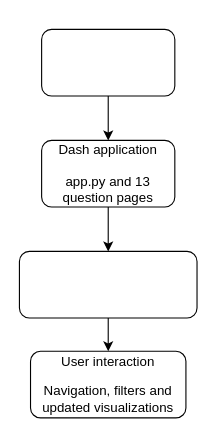
The diagram is 216 pixels wide and 447 high, and some of its shapes have lost their labels. Each missing label, with the box of its shape:
Plotly Express charts Bar charts, line charts, heatmaps and scatter plots: (18, 250, 197, 318)
Prepared datasets Pickle files in data/preparedData: (41, 28, 175, 96)
